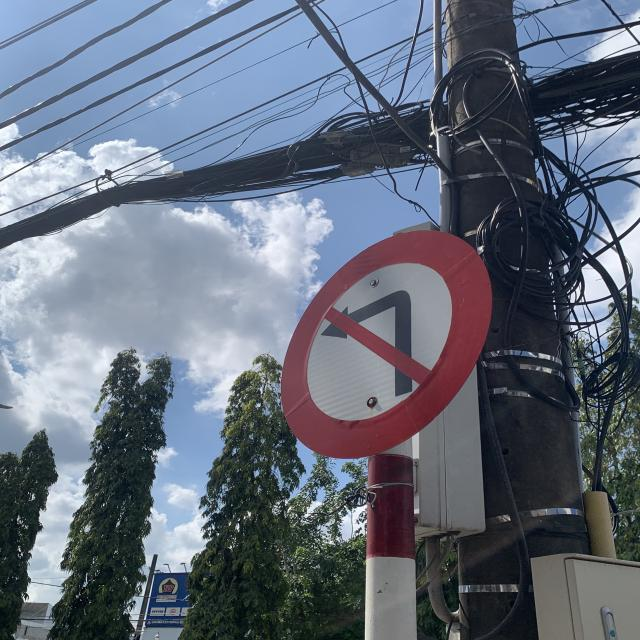Cam_Re_Trai: (278, 231, 494, 458)
